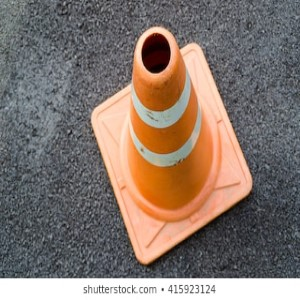traffic cone: (90, 26, 254, 266)
